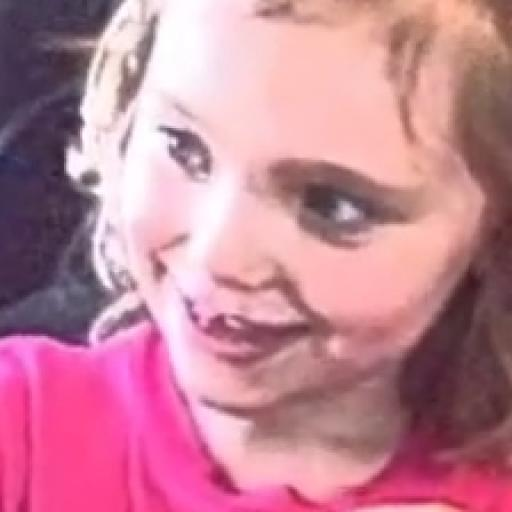Autism: (100, 0, 507, 434)
